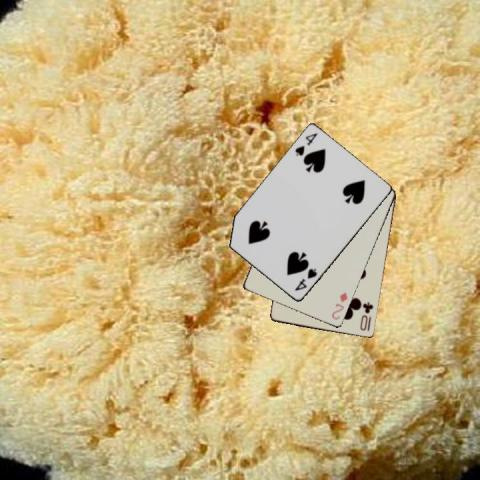10c: (357, 299, 375, 333)
2d: (328, 290, 348, 322)
4s: (291, 265, 319, 293), (292, 130, 319, 158)
